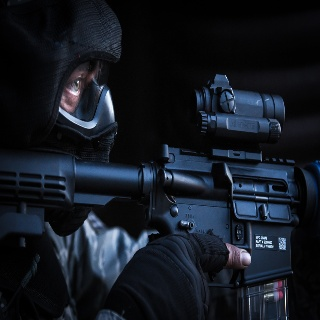rifle: (1, 72, 320, 320)
